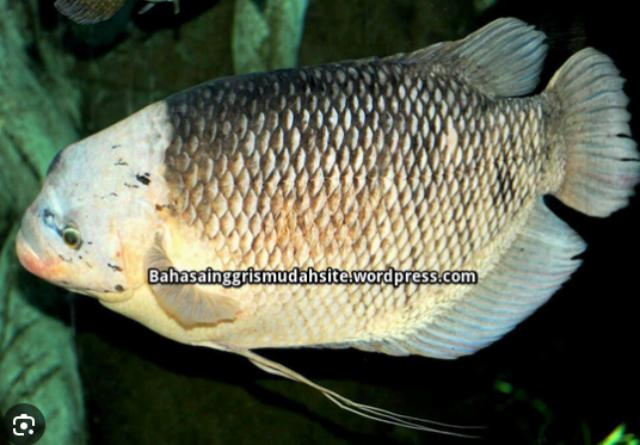Mulut: (0, 184, 86, 318)
Sirip Anal: (320, 192, 600, 378)
Sirip Dada: (122, 213, 254, 345)
Sirip Ekor: (516, 36, 640, 232)
Sirip Punggung: (337, 4, 551, 110)
